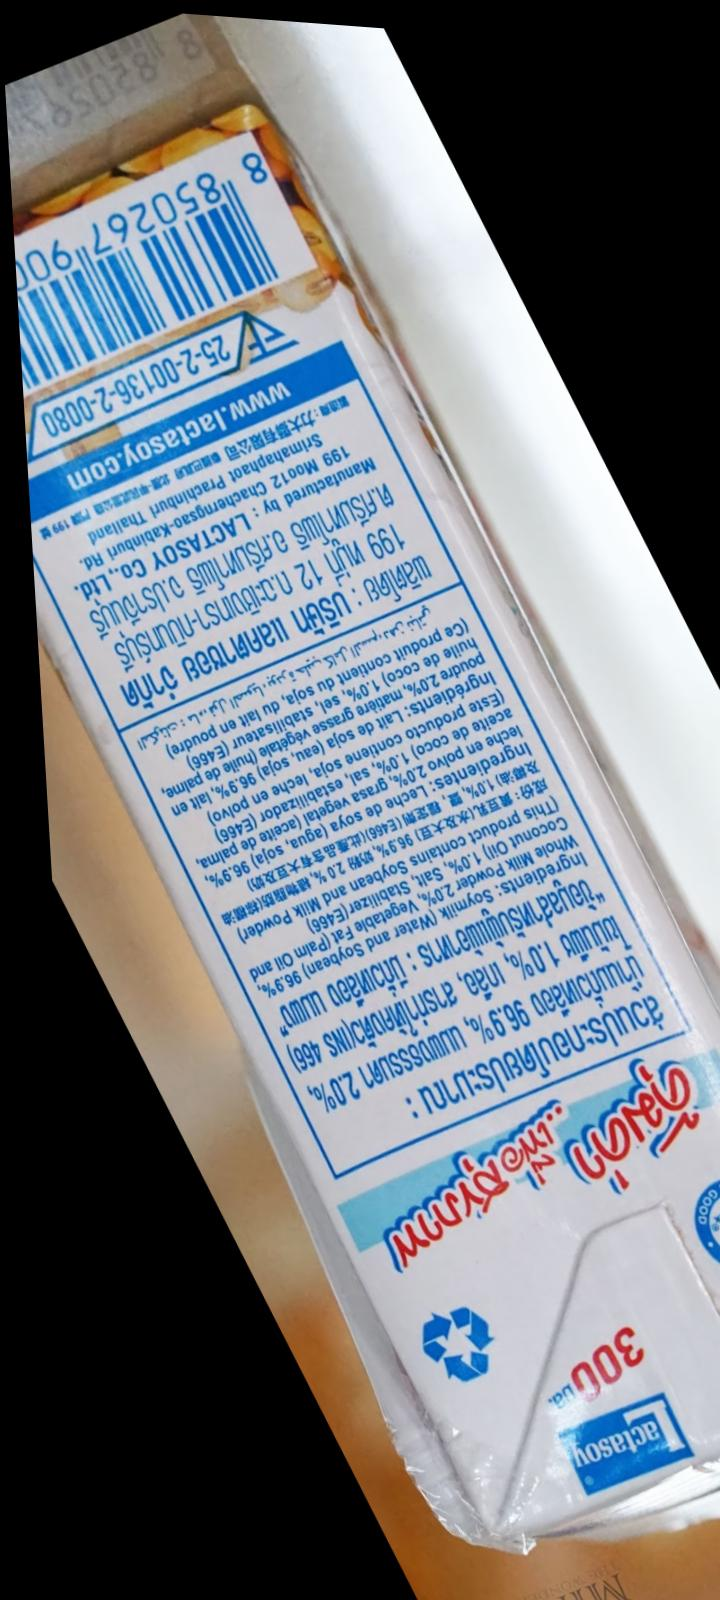cardboard: (16, 103, 719, 1599)
